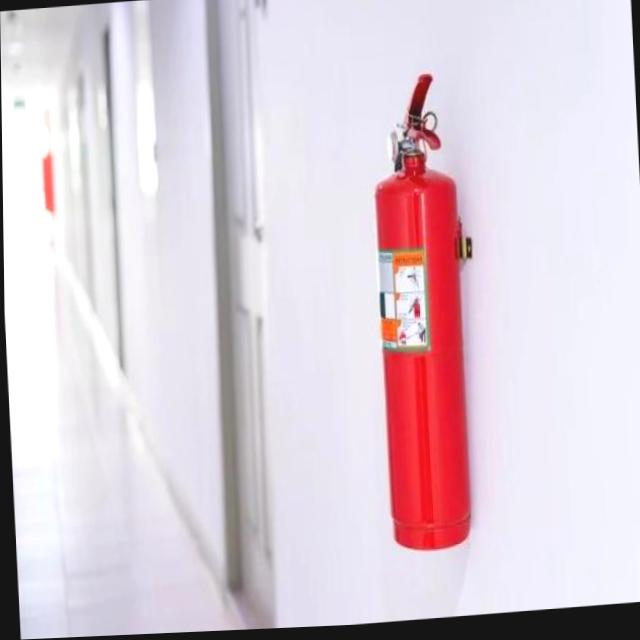FireExtinguisher: (361, 65, 479, 562)
